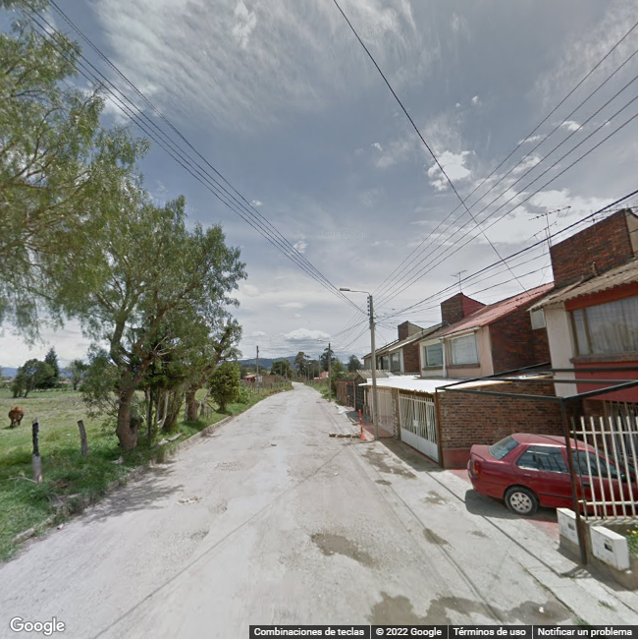D00: (251, 517, 270, 565)
D40: (313, 528, 373, 570), (188, 525, 208, 543)
